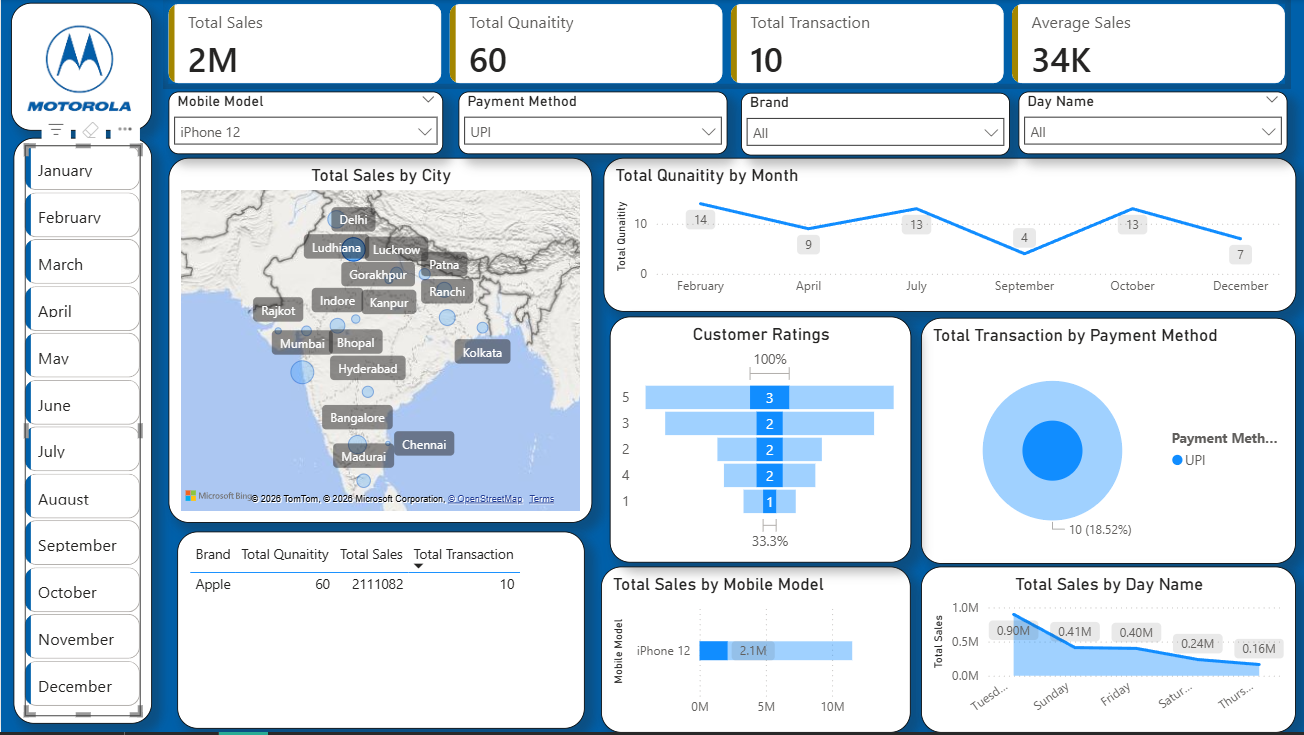

The dashboard page shown, as its layout file describes it:
{"tool":"powerbi","page":{"name":"Page 1","canvas":[1280,720],"ordinal":0},"visuals":[{"type":"shape","box":[9.9,3.7,138.3,125.9],"z":0},{"type":"shape","box":[12.3,135.8,135.8,575.3],"z":1000},{"type":"advancedSlicerVisual","fields":{"Values":["Sales.Date.Variation.Date Hierarchy.Month"]},"box":[23.5,143.2,113.6,560.5],"z":2000},{"type":"cardVisual","fields":{"Data":["Sales.Total Sales","Sales.Total Qunaitity","Sales.Total Transaction","Sales.Average"]},"box":[159.5,0,1106.8,88.3],"z":3000},{"type":"map","fields":{"Category":["Sales.City"],"Size":["Sales.Total Sales"]},"box":[164.4,155.8,416,358.3],"z":4000},{"type":"lineChart","fields":{"Category":["Sales.Date.Variation.Date Hierarchy.Month","Sales.Date.Variation.Date Hierarchy.Day"],"Y":["Sales.Total Qunaitity"]},"box":[591.4,155.8,679.8,150.9],"z":5000},{"type":"clusteredBarChart","fields":{"Category":["Sales.Mobile Model"],"Y":["Sales.Total Sales"]},"box":[589,557.1,304.3,163.2],"z":6000},{"type":"pieChart","fields":{"Y":["Sales.Total Transaction"],"Category":["Sales.Payment Method"]},"box":[903.1,312.9,368.1,241.7],"z":7000},{"type":"funnel","title":"Customer Ratings ","fields":{"Category":["Sales.Customer Ratings"],"Y":["CountNonNull(Sales.Customer Ratings)"]},"box":[597.5,311.7,295.7,241.7],"z":8000},{"type":"areaChart","fields":{"Y":["Sales.Total Sales"],"Category":["Sales.Day Name"]},"box":[903.1,557.1,368.1,163.2],"z":9000},{"type":"tableEx","fields":{"Values":["Sales.Brand","Sales.Total Qunaitity","Sales.Total Sales","Sales.Total Transaction"]},"box":[173,522.7,400,193.9],"z":10000},{"type":"slicer","fields":{"Values":["Sales.Mobile Model"]},"box":[164.4,90.8,269.9,61.4],"z":11000},{"type":"slicer","fields":{"Values":["Sales.Payment Method"]},"box":[449.1,90.8,263.8,61.4],"z":12000},{"type":"slicer","fields":{"Values":["Sales.Brand"]},"box":[726.4,92,263.8,61.4],"z":13000},{"type":"slicer","fields":{"Values":["Sales.Day Name"]},"box":[998.8,90.8,263.8,61.4],"z":14000},{"type":"image","box":[19.6,17.2,114.1,101.8],"z":15000}]}

Visuals, with their boxes in screenshot pixels (x1, y1, x2, y2):
shape: [left=13, top=4, right=152, bottom=130]
shape: [left=16, top=136, right=152, bottom=714]
advancedSlicerVisual - Sales.Date.Variation.Date Hierarchy.Month: [left=27, top=144, right=141, bottom=707]
cardVisual - Sales.Total Sales x Sales.Total Qunaitity: [left=164, top=0, right=1276, bottom=89]
map - Sales.City x Sales.Total Sales: [left=169, top=157, right=587, bottom=517]
lineChart - Sales.Date.Variation.Date Hierarchy.Month x Sales.Date.Variation.Date Hierarchy.Day: [left=598, top=157, right=1281, bottom=308]
clusteredBarChart - Sales.Mobile Model x Sales.Total Sales: [left=595, top=560, right=901, bottom=724]
pieChart - Sales.Total Transaction x Sales.Payment Method: [left=911, top=314, right=1281, bottom=557]
"Customer Ratings " funnel: [left=604, top=313, right=901, bottom=556]
areaChart - Sales.Total Sales x Sales.Day Name: [left=911, top=560, right=1281, bottom=724]
tableEx - Sales.Brand x Sales.Total Qunaitity: [left=177, top=525, right=579, bottom=720]
slicer - Sales.Mobile Model: [left=169, top=91, right=440, bottom=153]
slicer - Sales.Payment Method: [left=455, top=91, right=720, bottom=153]
slicer - Sales.Brand: [left=733, top=92, right=998, bottom=154]
slicer - Sales.Day Name: [left=1007, top=91, right=1272, bottom=153]
image: [left=23, top=17, right=138, bottom=120]
